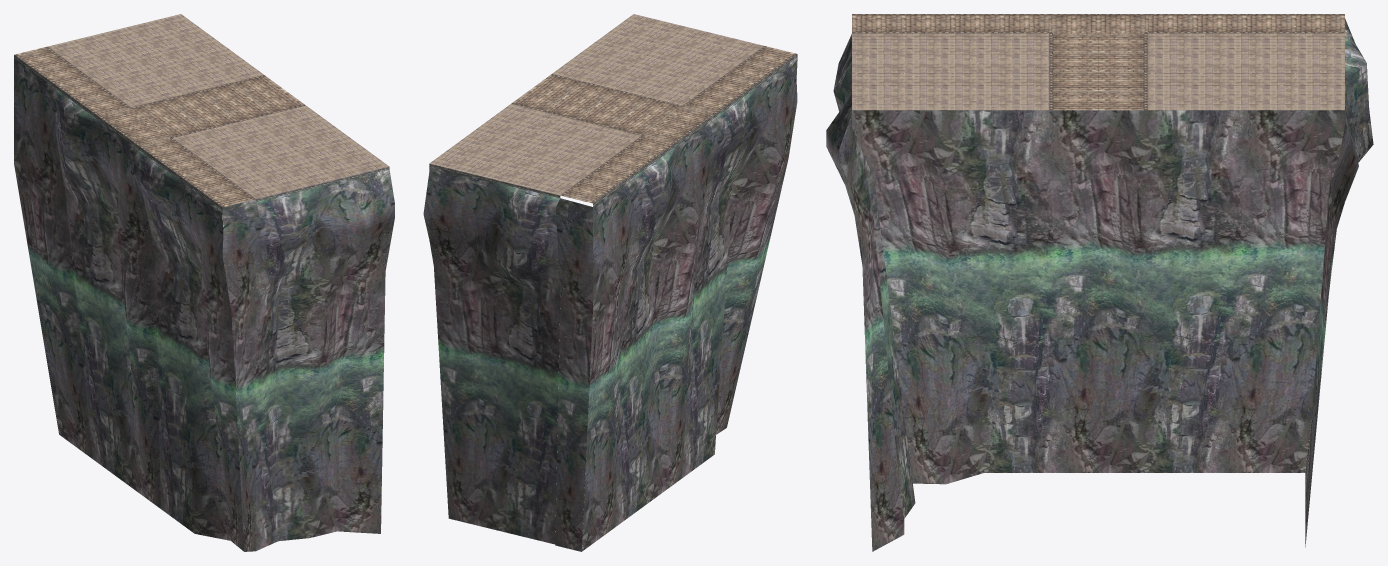
3 renders of one model, left to right at view 1: azimuth 30°, elevation 25°; view 2: azimuth 150°, elevation 25°; view 3: azimuth 270°, elevation 25°, orthographic. The views are drawn at different scales.
Visible parts, largest first — view 1: Plane01; view 2: Plane01; view 3: Plane01.
Boxes of the visible parts, x1=… form: Plane01: x1=14, y1=14, x2=394, y2=551; Plane01: x1=423, y1=14, x2=797, y2=551; Plane01: x1=826, y1=14, x2=1373, y2=551.
Bounding box in the file's own units: 602 × 1209 × 1353.
